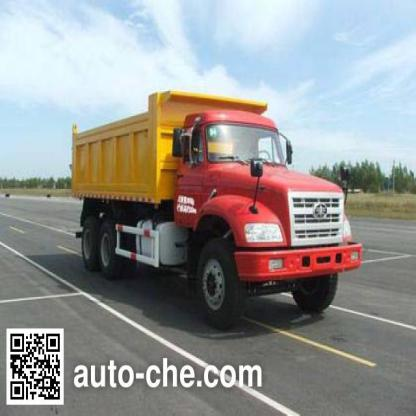normal-truck: (62, 103, 362, 338)
